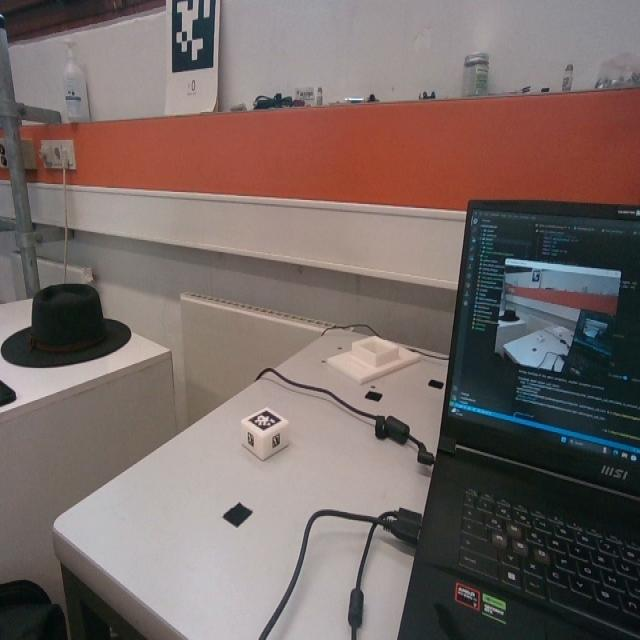Cube: (240, 404, 288, 461)
